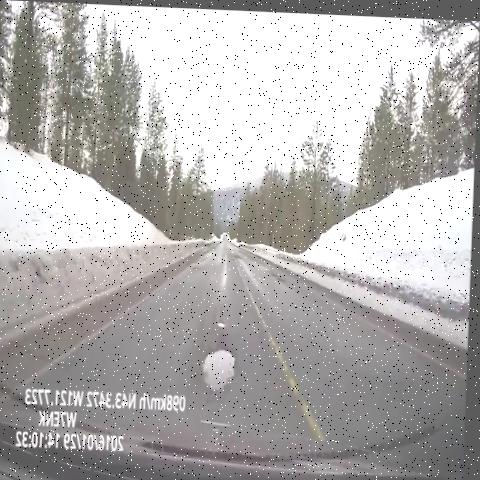pothole: (202, 344, 240, 392), (214, 308, 233, 334)
